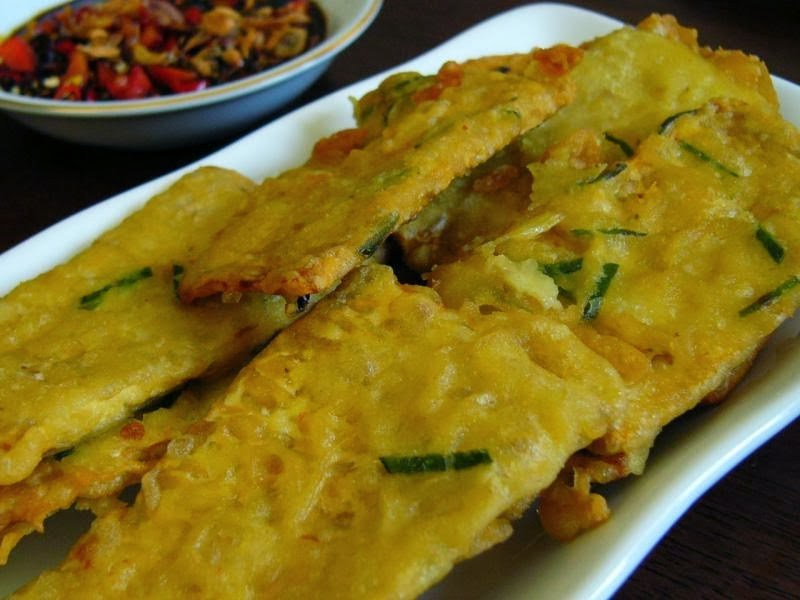Tempe Goreng: (19, 12, 771, 561)
